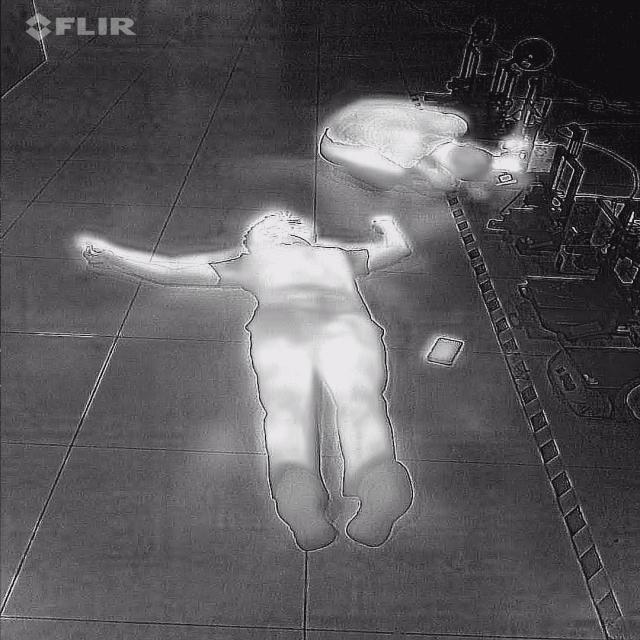Victim: (76, 210, 420, 554), (312, 86, 502, 208)
